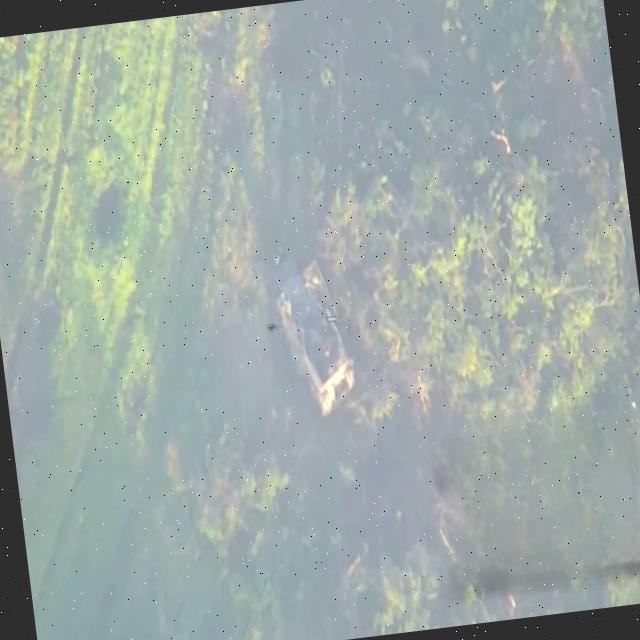Destroyed: (265, 246, 368, 423)
